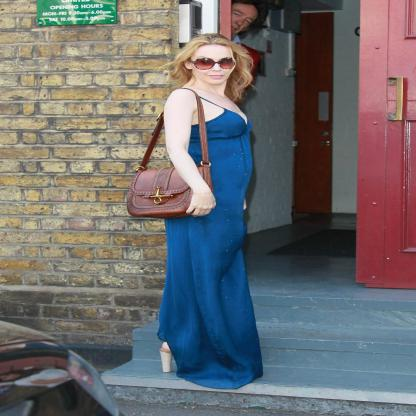face: (189, 43, 236, 86), (228, 3, 259, 38)
